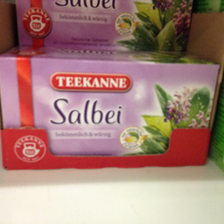tea: (1, 47, 224, 157)
